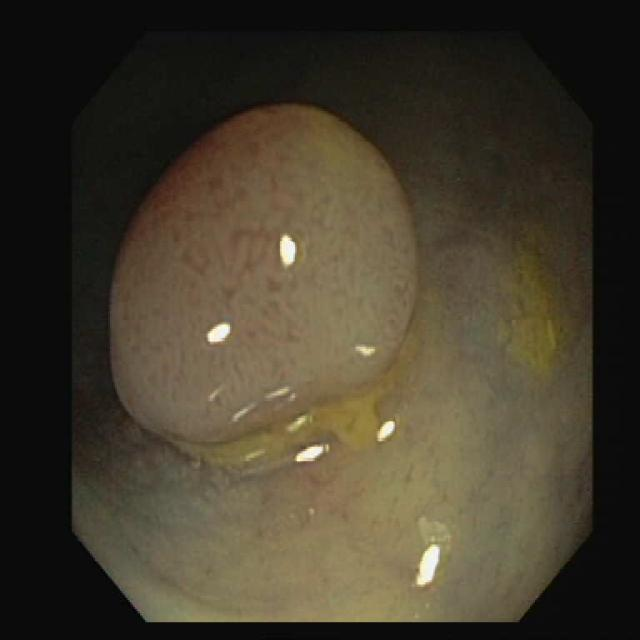tumor: (110, 104, 417, 444)
